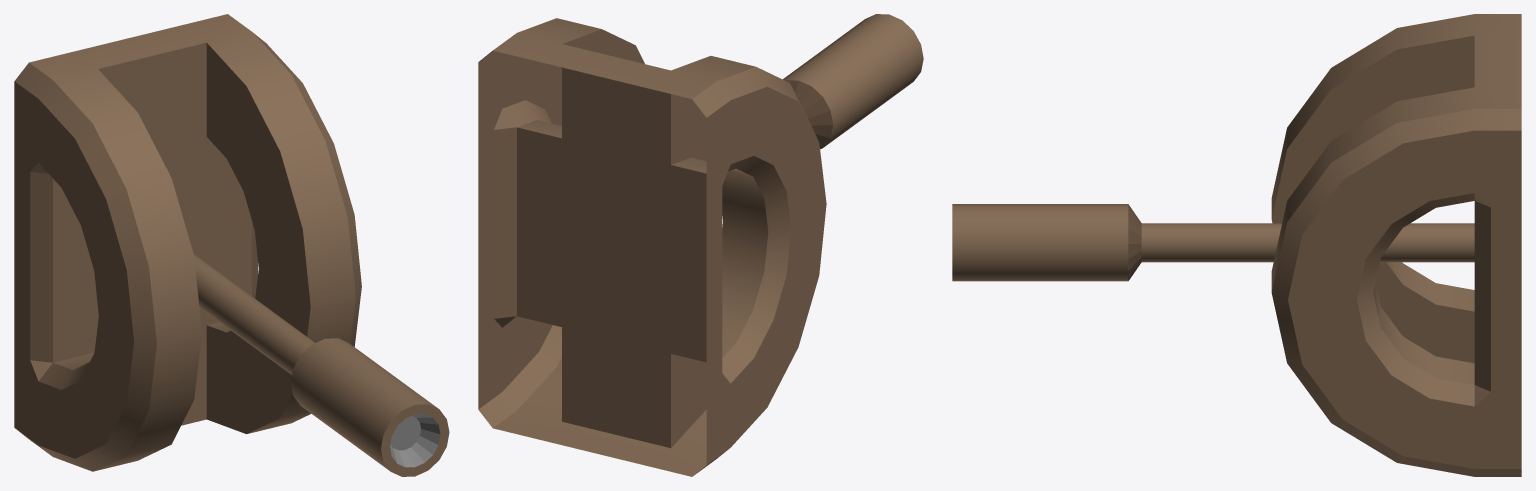
Rendered from Lever.fbx.
The picture shows the model from 3 angles, left to right: view 1: azimuth 30°, elevation 25°; view 2: azimuth 150°, elevation 25°; view 3: azimuth 270°, elevation 25°; orthographic projection. The views are drawn at different scales.
Parts seen in each view (by area): view 1: Cylinder003.001, Cylinder005.001; view 2: Cylinder003.001, Cylinder005.001; view 3: Cylinder003.001, Cylinder005.001.
Boxes of the visible parts, x1=… form: Cylinder003.001: x1=14, y1=14, x2=361, y2=471; Cylinder005.001: x1=193, y1=254, x2=449, y2=476; Cylinder003.001: x1=478, y1=18, x2=826, y2=476; Cylinder005.001: x1=604, y1=14, x2=923, y2=264; Cylinder003.001: x1=1271, y1=14, x2=1521, y2=476; Cylinder005.001: x1=952, y1=204, x2=1474, y2=281.
Bounding box in the file's own units: 29.26 × 46.26 × 64.85.
